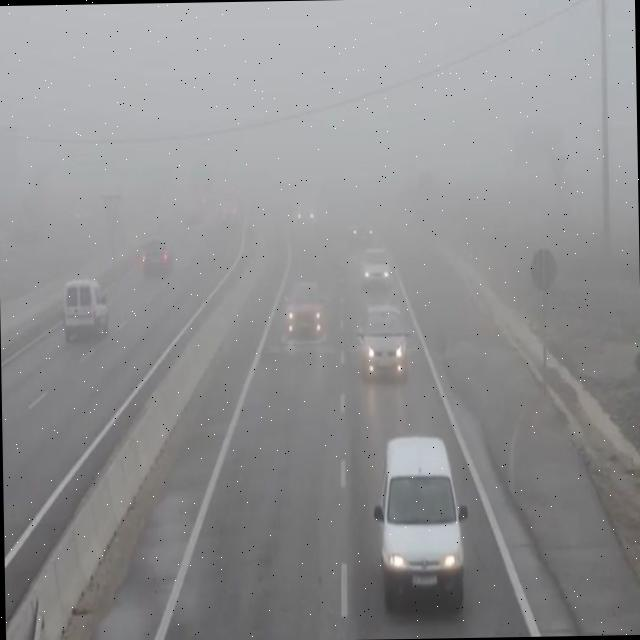car: (375, 438, 466, 613), (358, 312, 410, 378), (64, 276, 110, 342), (282, 282, 327, 344), (361, 246, 393, 289), (141, 238, 172, 278), (350, 212, 376, 243), (294, 200, 316, 227)
